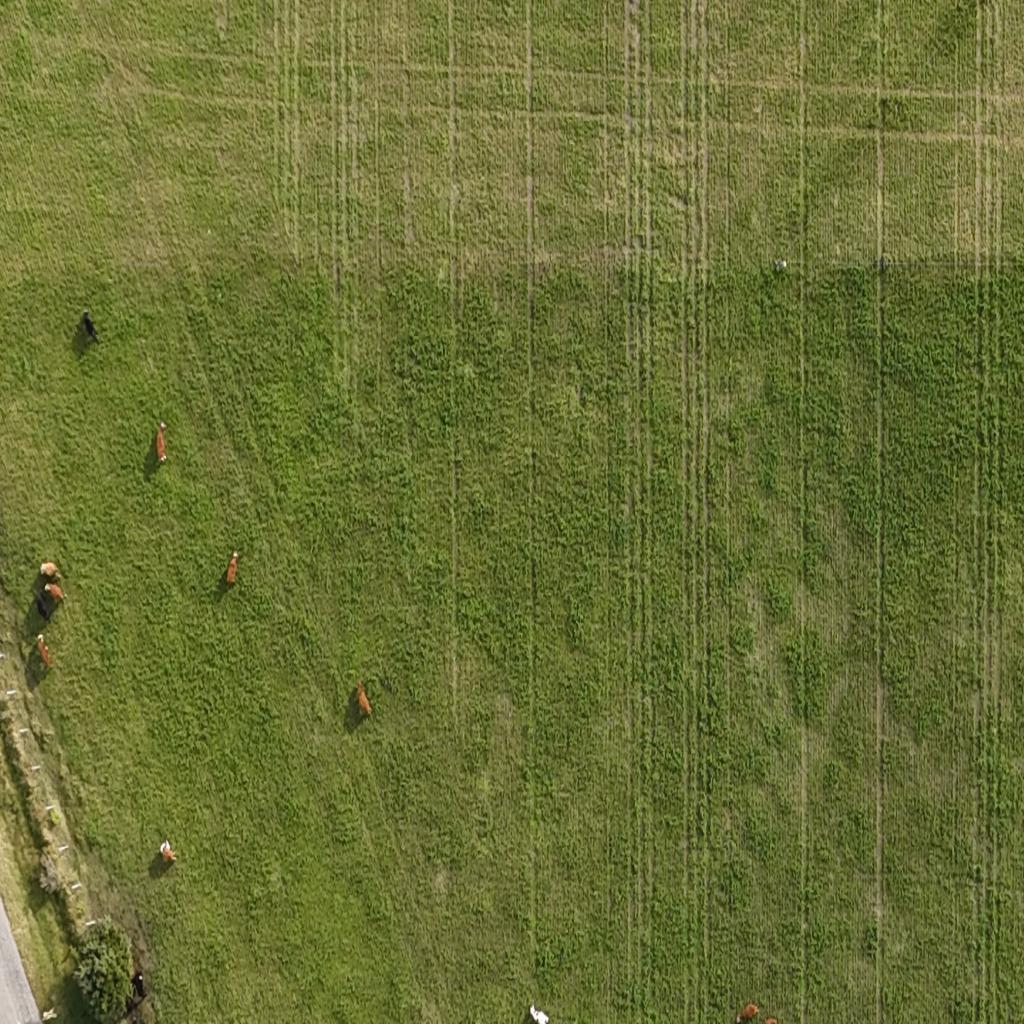cow: (24, 588, 48, 628), (78, 311, 102, 347), (352, 682, 372, 724), (37, 633, 53, 667), (40, 560, 62, 584), (156, 421, 168, 464), (527, 1002, 550, 1024), (225, 551, 239, 586), (736, 1004, 760, 1024), (44, 580, 65, 602), (160, 840, 177, 864), (132, 972, 145, 998), (40, 564, 48, 577), (764, 1017, 778, 1024), (735, 1015, 741, 1024)
